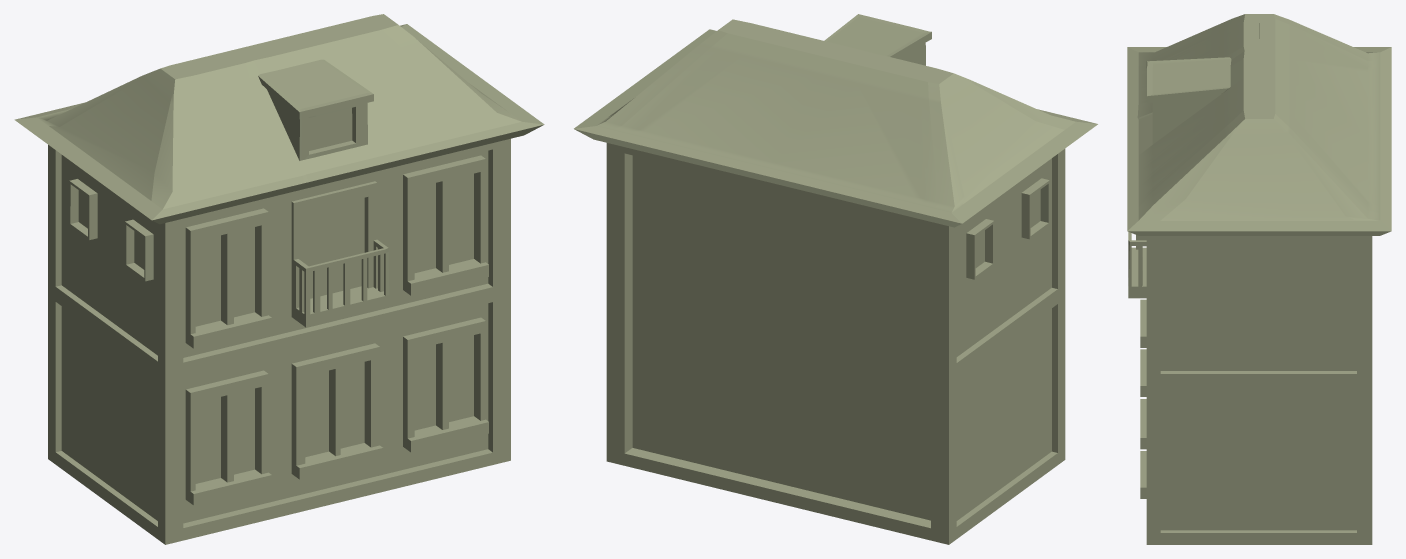
The model's file is house 1 V1.fbx.
3 renders of one model, left to right at view 1: azimuth 30°, elevation 25°; view 2: azimuth 150°, elevation 25°; view 3: azimuth 270°, elevation 25°, orthographic. The views are drawn at different scales.
Visible parts, largest first — view 1: house1; view 2: house1; view 3: house1.
Boxes of the visible parts, box(x1,y1,x2,y2) form: house1: box(14, 14, 544, 544); house1: box(574, 14, 1097, 544); house1: box(1127, 14, 1391, 544).
Bounding box in the file's own units: 13.77 × 13.83 × 8.35.
